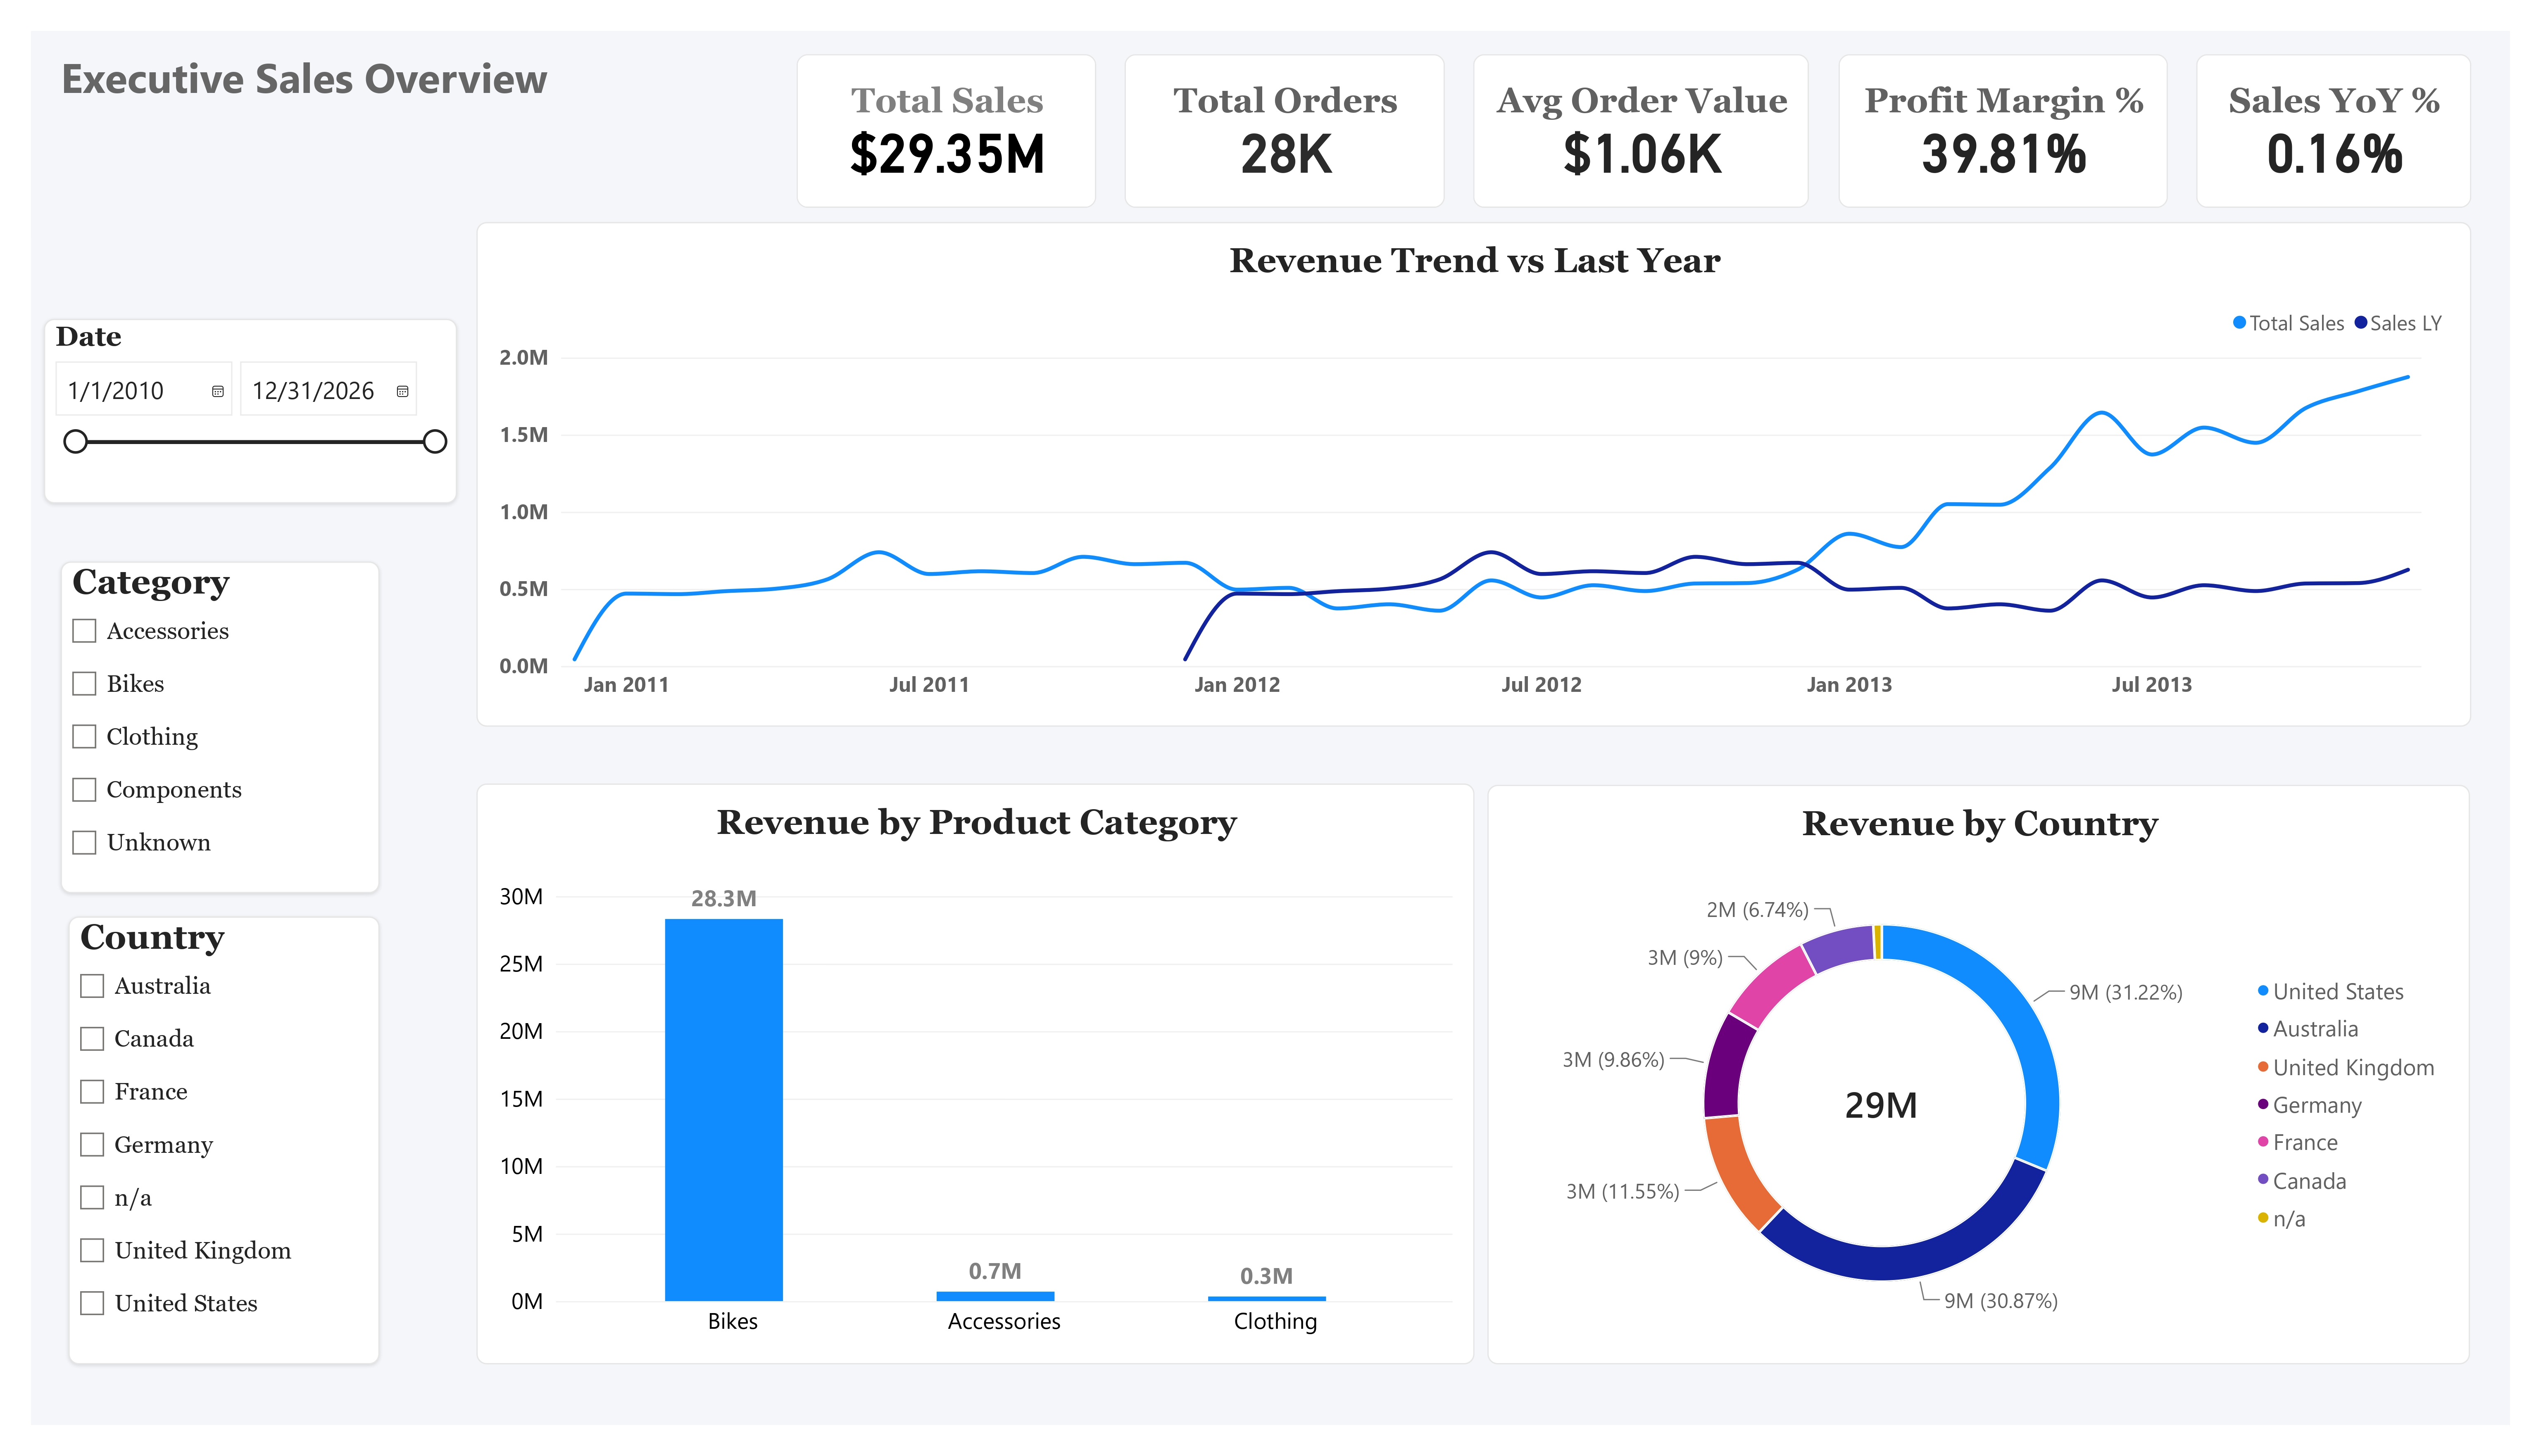

The page's visual inventory and layout, read from the dashboard file:
{"tool":"powerbi","page":{"name":"Sales Overview","canvas":[1920,1080],"ordinal":0},"visuals":[{"type":"cardVisual","fields":{"Data":["_Measures.Total Sales"]},"box":[593.3,18.3,231.7,118.3],"z":0},{"type":"cardVisual","fields":{"Data":["_Measures.Total Orders"]},"box":[846.7,18.3,248.3,118.3],"z":1000},{"type":"cardVisual","fields":{"Data":["_Measures.Avg Order Value"]},"box":[1116.7,18.3,260,118.3],"z":2000},{"type":"cardVisual","fields":{"Data":["_Measures.Profit Margin %"]},"box":[1400,18.3,255,118.3],"z":3000},{"type":"clusteredColumnChart","title":"Revenue by Product Category","fields":{"Category":["dim_products.category"],"Y":["_Measures.Total Sales"]},"box":[345,583.3,773.3,450],"z":4000},{"type":"donutChart","title":"Revenue by Country","fields":{"Category":["dim_customers.country"],"Y":["_Measures.Total Sales"]},"box":[1127.8,583.6,761.6,449.4],"z":5000},{"type":"slicer","title":"Date","fields":{"Values":["dim_date.Date"]},"box":[10.2,223.2,319.5,143],"z":6000},{"type":"slicer","fields":{"Values":["dim_customers.country"]},"box":[29.2,685.7,240.7,347.2],"z":7000},{"type":"slicer","fields":{"Values":["dim_products.category"]},"box":[23.3,411.4,246.6,256.8],"z":8000},{"type":"lineChart","title":"Revenue Trend vs Last Year","fields":{"Category":["dim_date.Date.Variation.Date Hierarchy.Year","dim_date.Date.Variation.Date Hierarchy.Month"],"Y":["_Measures.Total Sales","_Measures.Sales LY"]},"box":[345,148.3,1545,391],"z":9000},{"type":"textbox","box":[23.3,13.1,404.1,59.8],"z":10000},{"type":"cardVisual","fields":{"Data":["_Measures.Sales YoY %"]},"box":[1676.7,18.3,213.3,118.3],"z":10001}]}

Visuals, with their boxes on the page's 1920x1080 design canvas (x1, y1, x2, y2). These are canvas units, not pixel positions in the 2541x1456 screenshot, which may show the page scaled, cropped or inside an application window:
cardVisual - _Measures.Total Sales: [x1=593, y1=18, x2=825, y2=137]
cardVisual - _Measures.Total Orders: [x1=847, y1=18, x2=1095, y2=137]
cardVisual - _Measures.Avg Order Value: [x1=1117, y1=18, x2=1377, y2=137]
cardVisual - _Measures.Profit Margin %: [x1=1400, y1=18, x2=1655, y2=137]
"Revenue by Product Category" clusteredColumnChart: [x1=345, y1=583, x2=1118, y2=1033]
"Revenue by Country" donutChart: [x1=1128, y1=584, x2=1889, y2=1033]
"Date" slicer: [x1=10, y1=223, x2=330, y2=366]
slicer - dim_customers.country: [x1=29, y1=686, x2=270, y2=1033]
slicer - dim_products.category: [x1=23, y1=411, x2=270, y2=668]
"Revenue Trend vs Last Year" lineChart: [x1=345, y1=148, x2=1890, y2=539]
textbox: [x1=23, y1=13, x2=427, y2=73]
cardVisual - _Measures.Sales YoY %: [x1=1677, y1=18, x2=1890, y2=137]
